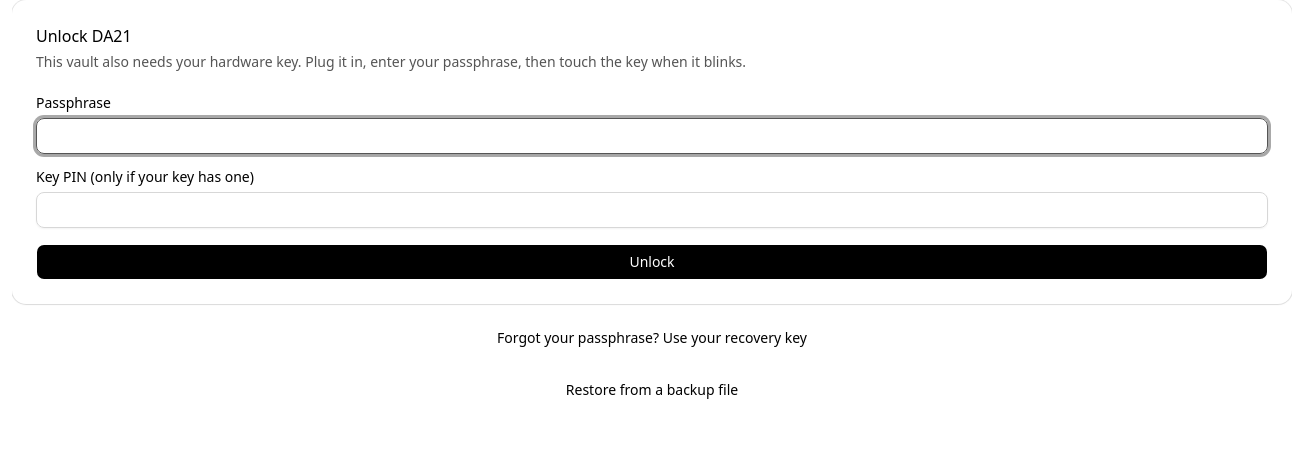
Test case: UnlockScreen with a hardware key required › sends the PIN with the passphrase and asks for a touch while it waits
In the password field labelled "Key PIN (only if your key has one)": (652, 210) [36,192,1268,228], type "4321"
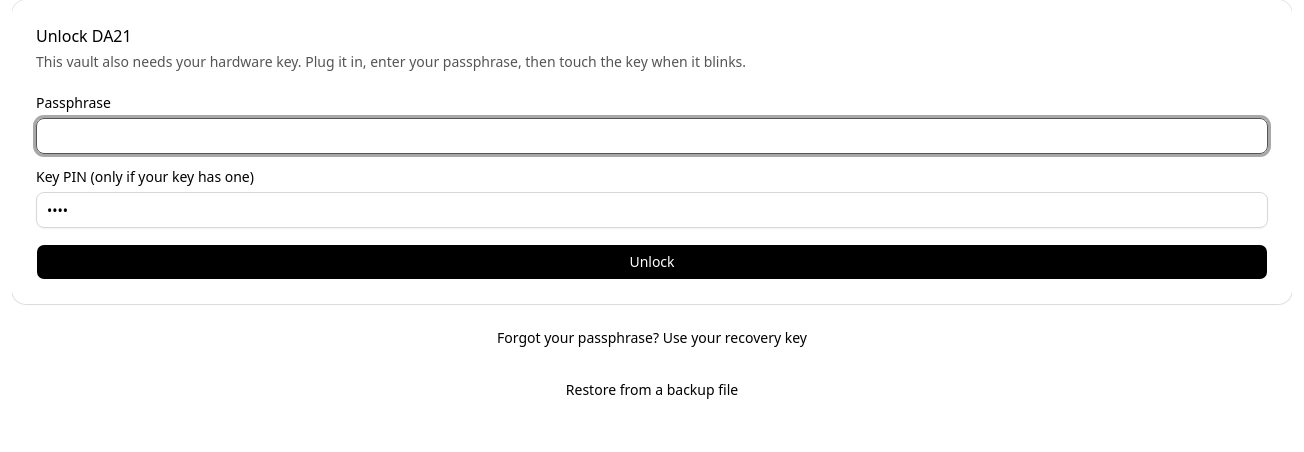
In the password field labelled "Passphrase": (652, 136) [36,118,1268,154], type "my passphrase"
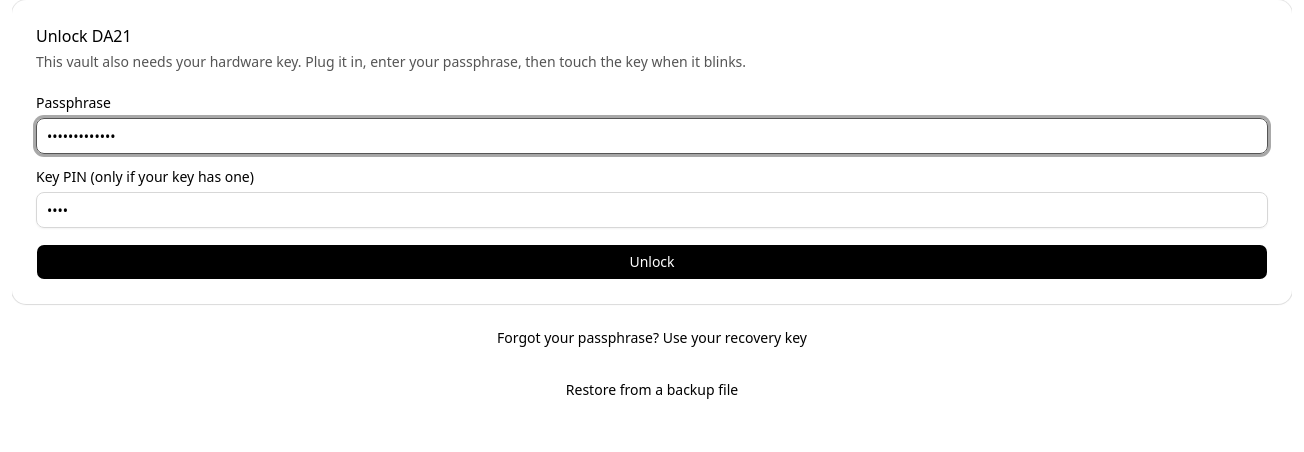
Click the button "Unlock": click(652, 262) [36,244,1268,280]
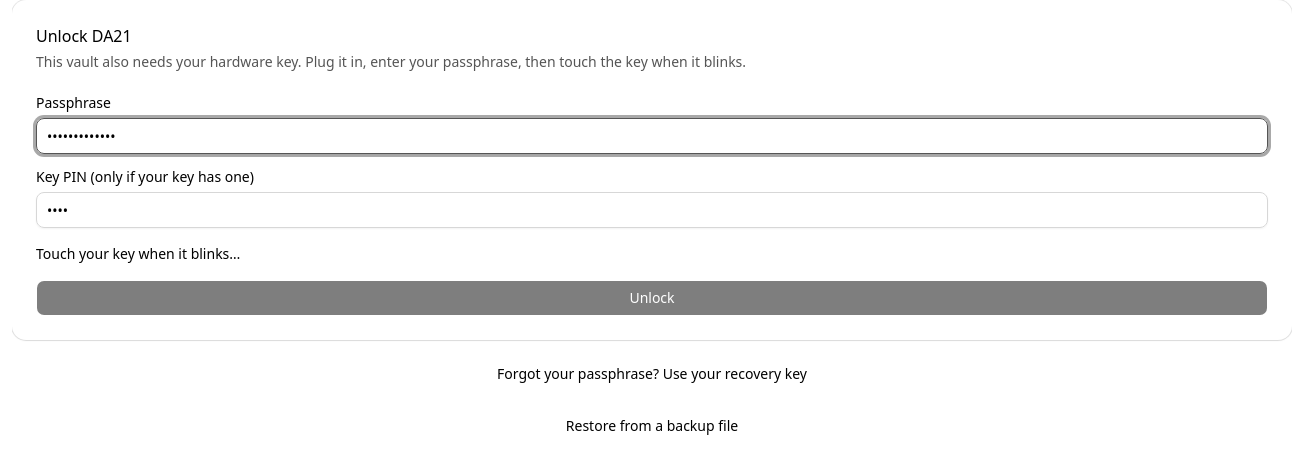
expect the text "Touch your key when it blinks…" is shown: met, box [36,244,240,263]
